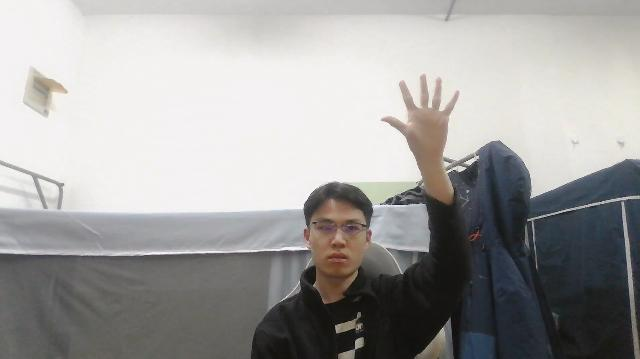five: (381, 73, 459, 160)
